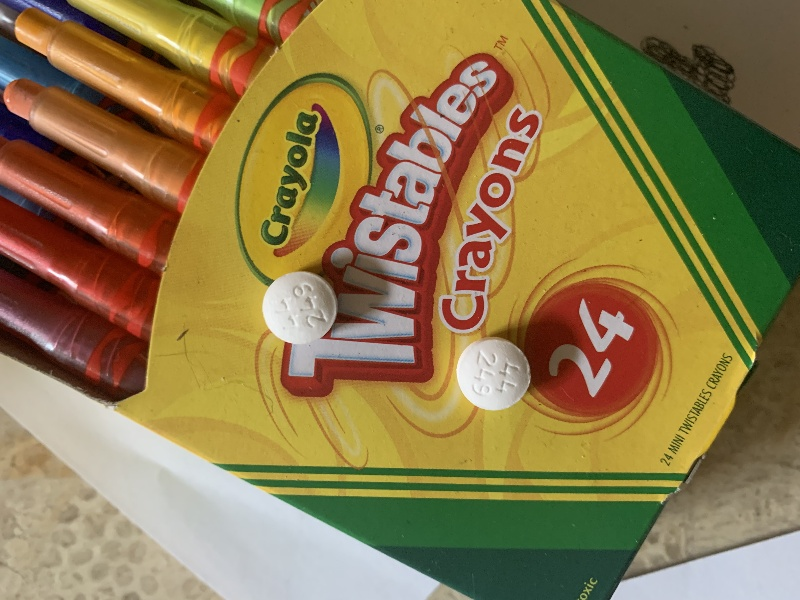Aspirin: (452, 335, 539, 417), (260, 268, 342, 348)
